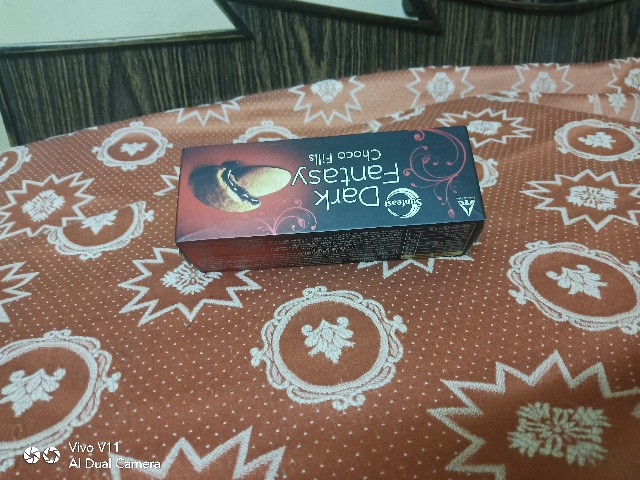darkfantasy big: (147, 110, 507, 276)
